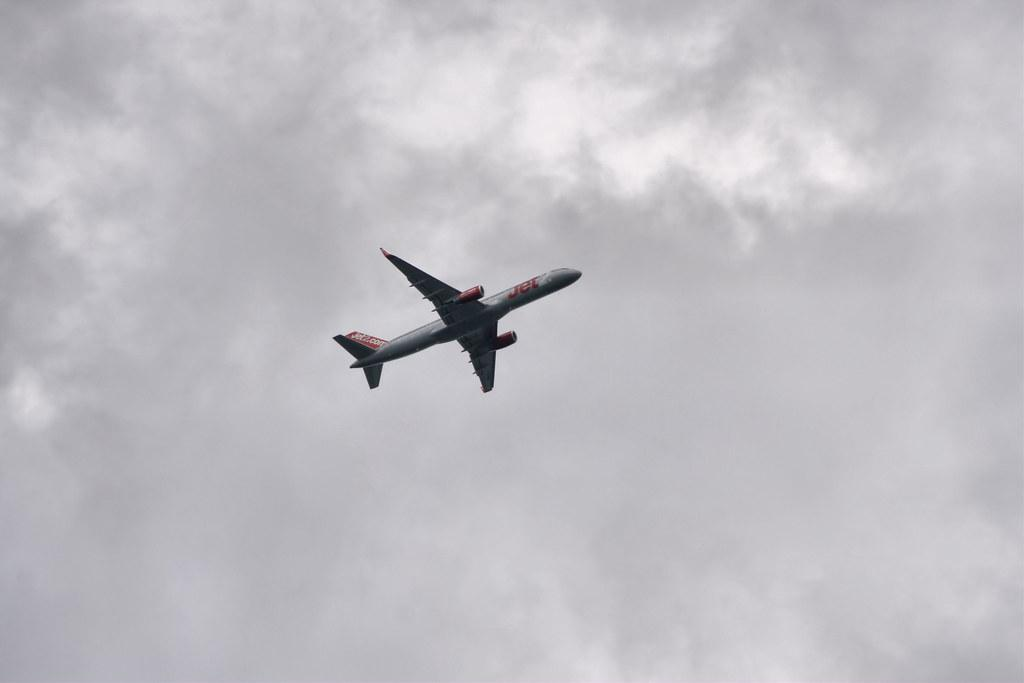plane: (332, 246, 583, 394)
